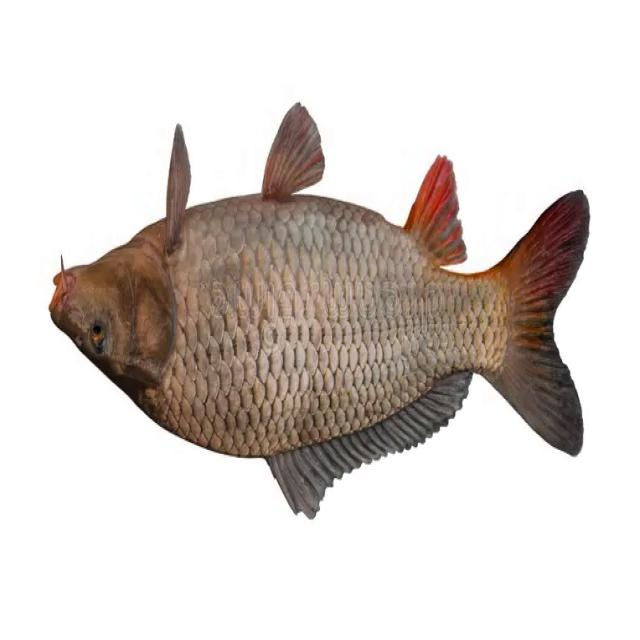Common carp: (49, 109, 587, 514)
